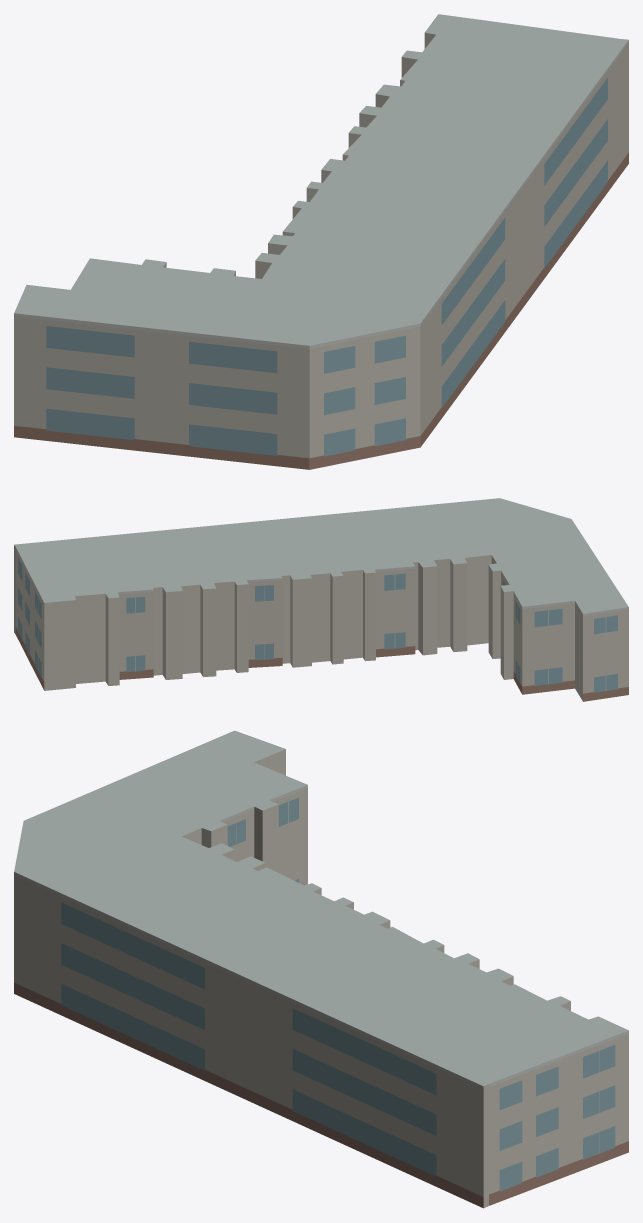
Rendered from survey-upis-32776598.glb.
3 renders of one model, top to bottom at view 1: azimuth 30°, elevation 25°; view 2: azimuth 150°, elevation 25°; view 3: azimuth 270°, elevation 25°, orthographic. The views are drawn at different scales.
Visible parts, largest first — view 1: survey-upis-32776598.tmp; view 2: survey-upis-32776598.tmp; view 3: survey-upis-32776598.tmp.
Part boxes in pixels (x1,y1,x2,y2): survey-upis-32776598.tmp: (14,14,628,469); survey-upis-32776598.tmp: (14,498,628,701); survey-upis-32776598.tmp: (14,730,628,1208).
Size of the model in its own units: 57.24 by 9.15 by 41.79.
